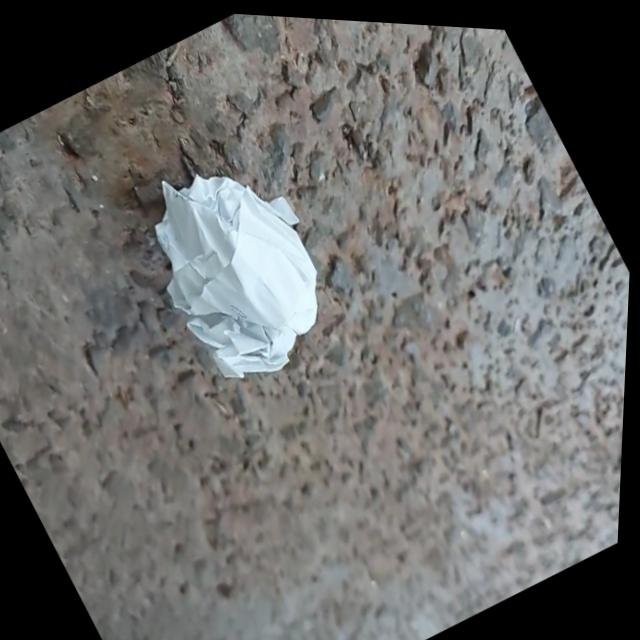paper: (156, 176, 316, 377)
